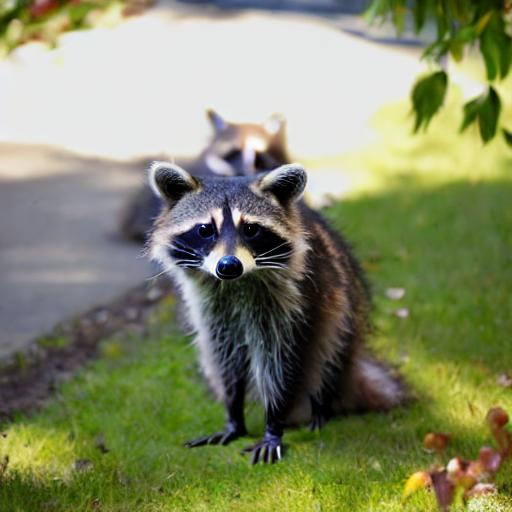raccoon: (141, 153, 388, 427)
